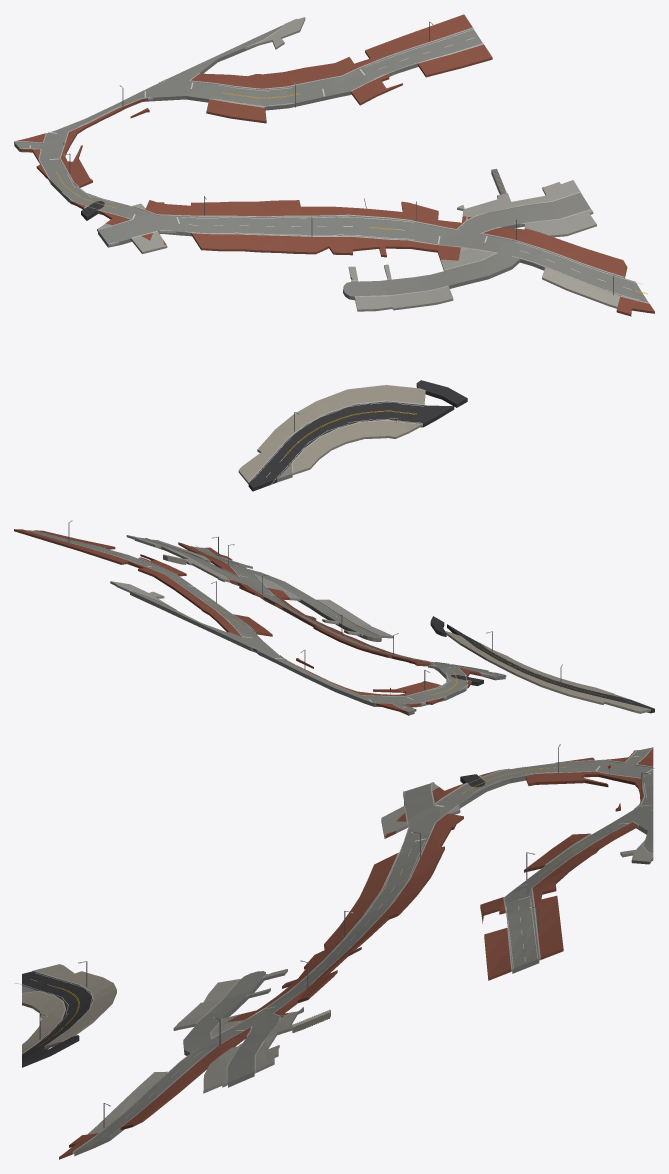
3 views of the same model, one above another, from view 1: azimuth 30°, elevation 25°; view 2: azimuth 150°, elevation 25°; view 3: azimuth 270°, elevation 25° (orthographic). The views are drawn at different scales.
Bounding box in the file's own units: 149 × 79.47 × 148.
